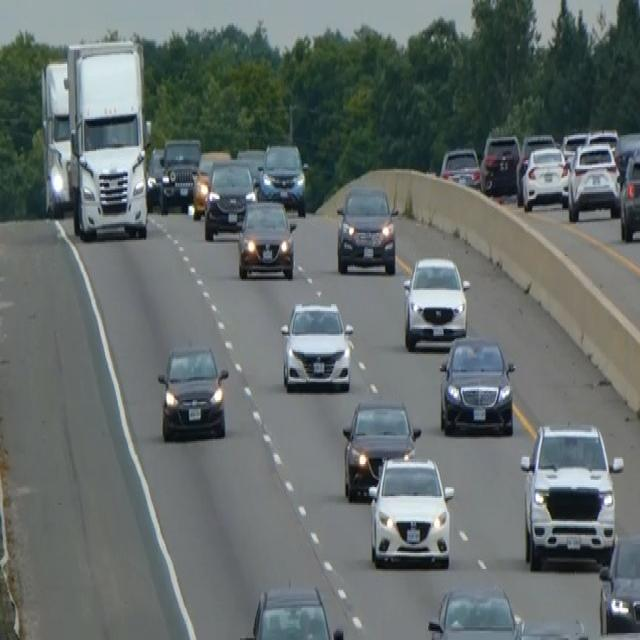car: (519, 419, 623, 569), (367, 453, 454, 569), (341, 396, 421, 502), (438, 334, 516, 436), (156, 341, 229, 441), (279, 299, 353, 393), (402, 254, 470, 350), (239, 582, 345, 638), (335, 183, 398, 274), (426, 582, 524, 638), (236, 197, 297, 279), (203, 156, 255, 240), (567, 140, 620, 220), (598, 532, 639, 634), (256, 141, 307, 215), (518, 144, 567, 210), (158, 135, 200, 212), (189, 149, 230, 219), (479, 132, 520, 196), (516, 132, 555, 194), (618, 149, 639, 242), (439, 144, 481, 190), (513, 615, 590, 638), (614, 130, 639, 183), (235, 146, 264, 188), (145, 144, 164, 208), (560, 130, 587, 167), (586, 126, 619, 155), (520, 132, 554, 158)
lorry: (64, 37, 150, 240), (39, 57, 73, 219)
